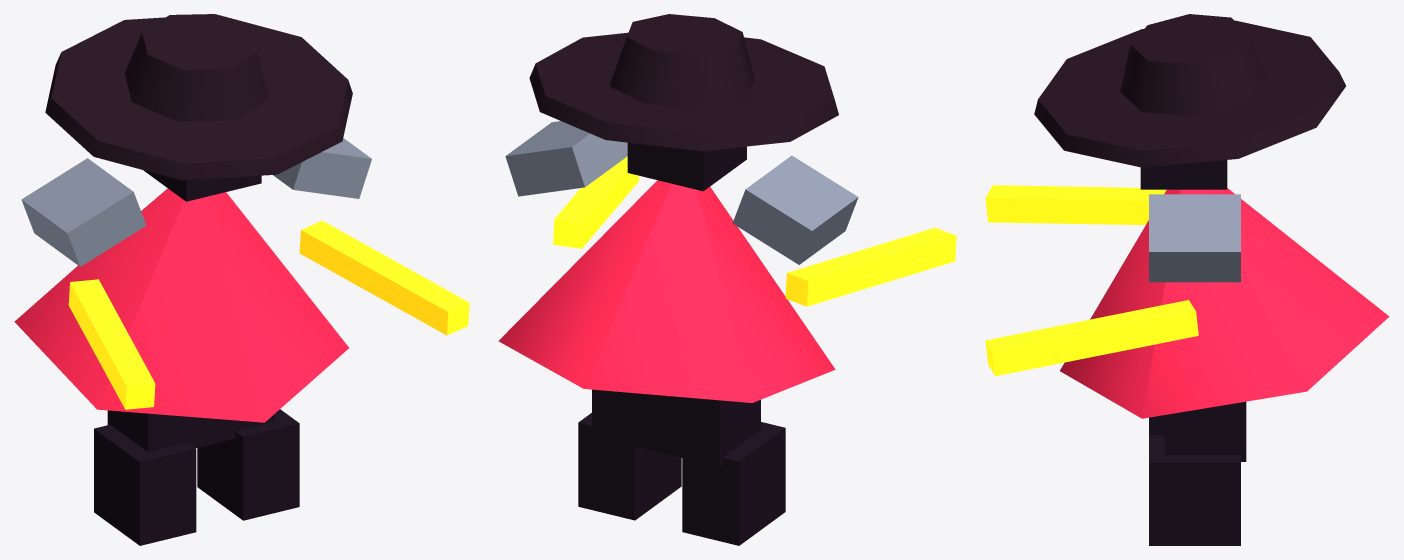
The model's file is enemy_rustler.glb.
3 views of the same model, side by side, from view 1: azimuth 30°, elevation 25°; view 2: azimuth 150°, elevation 25°; view 3: azimuth 270°, elevation 25° (orthographic).
Visible parts, largest first — view 1: poncho, hat_brim, hat_crown, boot_l, boot_r, pauldron_l, blade_r, blade_l, legs, pauldron_r, head; view 2: poncho, hat_brim, hat_crown, boot_l, legs, pauldron_l, boot_r, blade_l, pauldron_r, head, blade_r; view 3: poncho, hat_brim, hat_crown, boot_r, pauldron_r, blade_r, blade_l, legs, head.
Part boxes in pixels (x1,y1,x2,y2): poncho: (14,188,348,422); hat_brim: (45,14,352,180); hat_crown: (124,14,268,121); boot_l: (94,424,196,545); boot_r: (197,409,299,520); pauldron_l: (21,158,146,266); blade_r: (299,220,469,335); blade_l: (68,279,155,409); legs: (107,410,274,452); pauldron_r: (273,138,371,198); head: (143,170,261,201); poncho: (498,180,835,402); hat_brim: (529,32,838,151); hat_crown: (609,14,754,108); boot_l: (682,422,785,545); legs: (592,389,760,466); pauldron_l: (732,155,858,264); boot_r: (578,413,681,520); blade_l: (785,227,956,306); pauldron_r: (505,121,627,196); head: (627,142,746,191); blade_r: (553,156,639,248); poncho: (1060,188,1389,418); hat_brim: (1034,20,1345,167); hat_crown: (1120,14,1268,116); boot_r: (1149,435,1240,545); pauldron_r: (1149,194,1240,282); blade_r: (985,300,1198,376); blade_l: (985,185,1166,224); legs: (1165,401,1246,461); head: (1140,160,1227,189).
Bounding box in the file's own units: 1.46 × 1.93 × 1.49.
